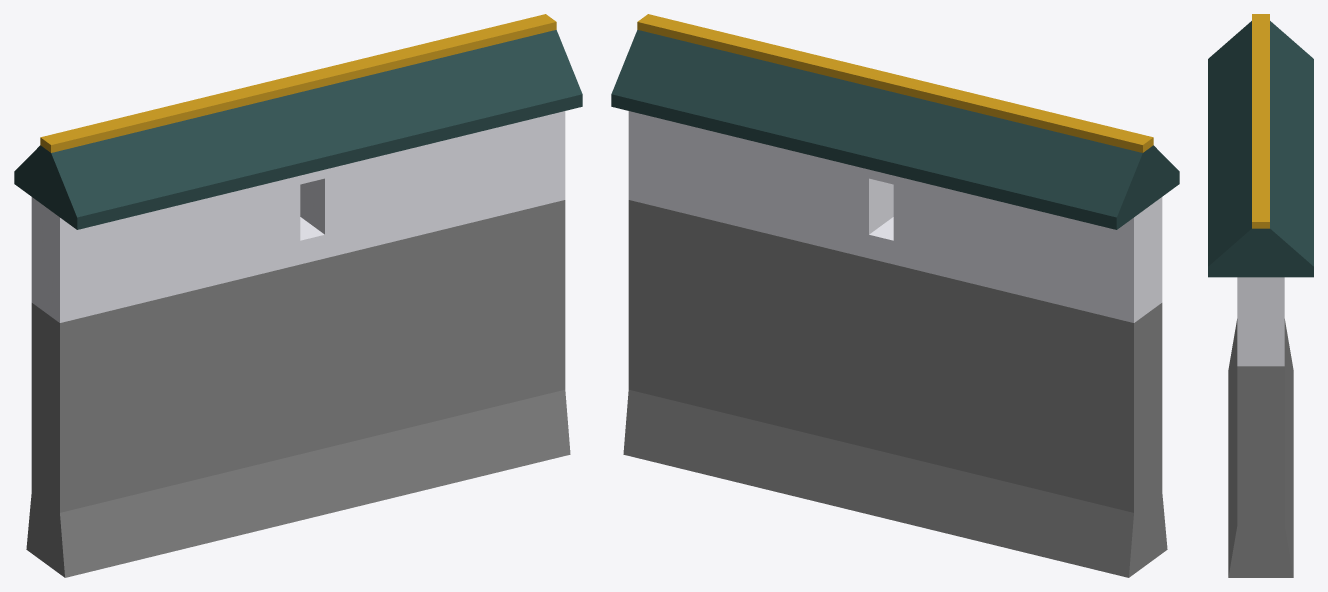
Rendered from Asian_Prop_Building_Fence_Wall_High_Embrasure_03.FBX.
3 renders of one model, left to right at view 1: azimuth 30°, elevation 25°; view 2: azimuth 150°, elevation 25°; view 3: azimuth 270°, elevation 25°, orthographic. The views are drawn at different scales.
Parts seen in each view (by area): view 1: Asian_Prop_Building_Fence_Wall_High_Embrasure_03; view 2: Asian_Prop_Building_Fence_Wall_High_Embrasure_03; view 3: Asian_Prop_Building_Fence_Wall_High_Embrasure_03.
Part boxes in pixels (x1=…): Asian_Prop_Building_Fence_Wall_High_Embrasure_03: x1=14, y1=14, x2=582, y2=577; Asian_Prop_Building_Fence_Wall_High_Embrasure_03: x1=611, y1=14, x2=1179, y2=577; Asian_Prop_Building_Fence_Wall_High_Embrasure_03: x1=1208, y1=14, x2=1313, y2=577.
Size of the model in its own units: 5167 by 4128 by 1112.
